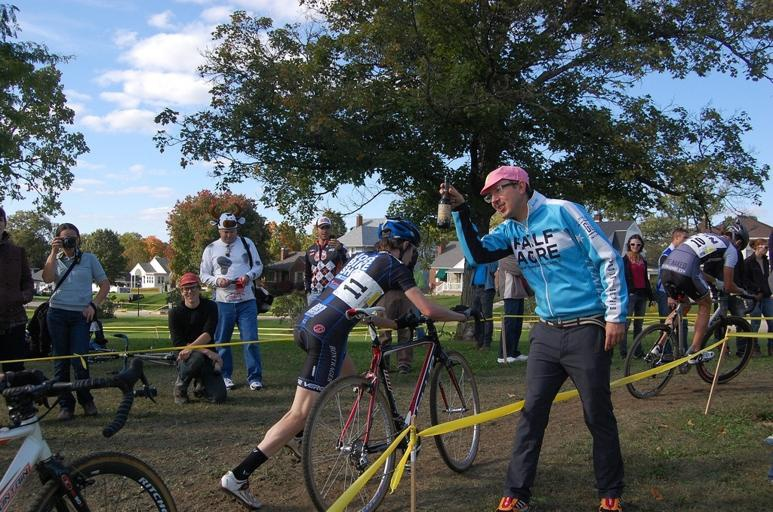non-vehicle: (295, 299, 491, 511), (621, 279, 761, 400), (91, 330, 178, 375)
